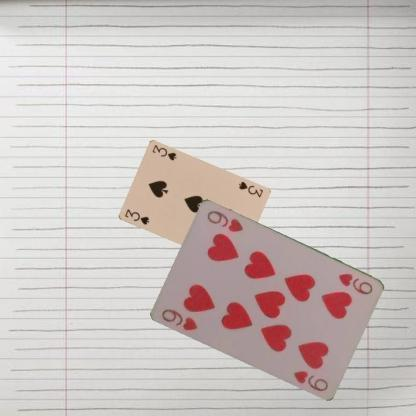3s: (236, 179, 264, 199), (122, 207, 150, 226)
9h: (159, 306, 199, 332), (336, 270, 374, 296)
